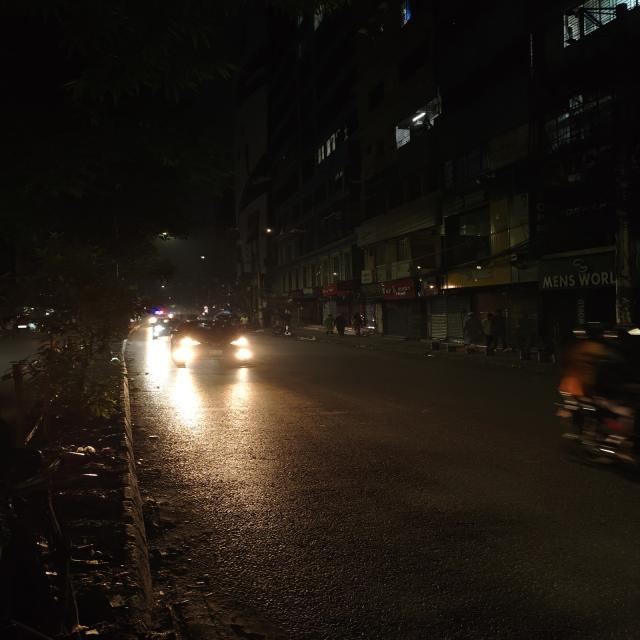car: (168, 314, 260, 373), (148, 315, 180, 343)
motorcycle: (267, 309, 300, 340)
pedestrian: (486, 310, 508, 349), (460, 312, 483, 346), (516, 313, 534, 351), (348, 312, 368, 336), (334, 311, 350, 340), (323, 312, 335, 336)
